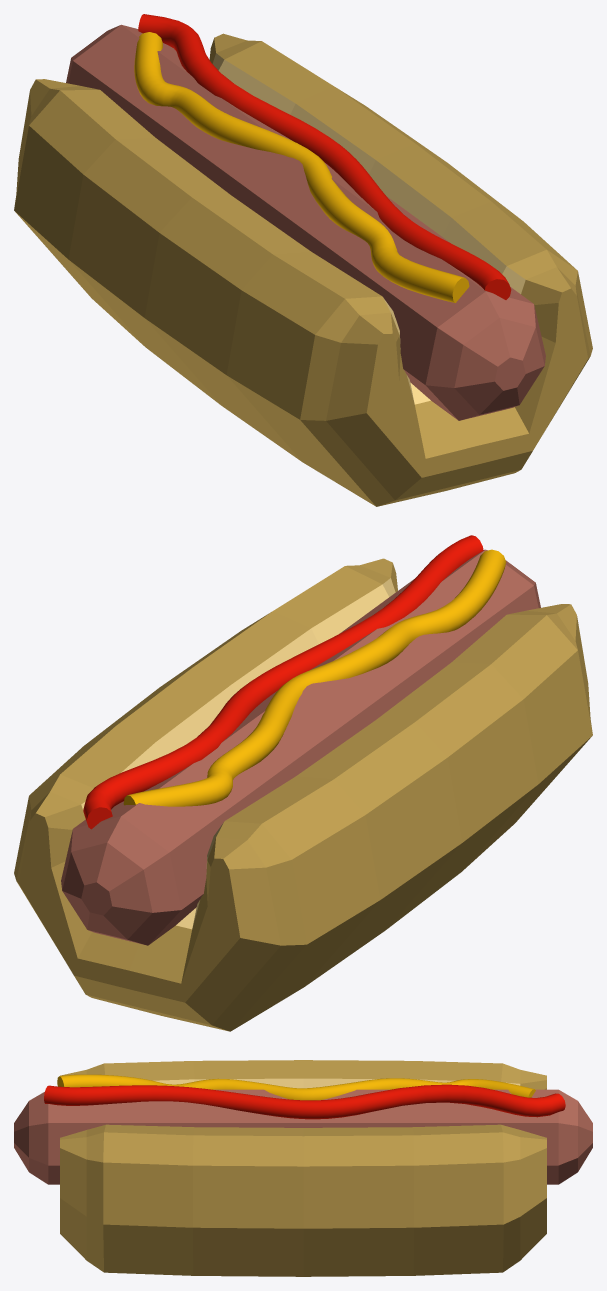
The model's file is Hot Dog.fbx.
The picture shows the model from 3 angles, top to bottom: view 1: azimuth 30°, elevation 25°; view 2: azimuth 150°, elevation 25°; view 3: azimuth 270°, elevation 25°; orthographic projection. The views are drawn at different scales.
Parts seen in each view (by area): view 1: Bun, Dog, BézierCurve.001, BézierCurve; view 2: Bun, Dog, BézierCurve.001, BézierCurve; view 3: Bun, Dog, BézierCurve, BézierCurve.001.
Boxes of the visible parts, <box> form: Bun: <box>14,33,592,506</box>; Dog: <box>66,24,545,420</box>; BézierCurve.001: <box>134,32,469,302</box>; BézierCurve: <box>138,14,511,299</box>; Bun: <box>14,558,592,1031</box>; Dog: <box>61,549,540,945</box>; BézierCurve.001: <box>123,549,506,806</box>; BézierCurve: <box>83,535,483,829</box>; Bun: <box>60,1060,546,1276</box>; Dog: <box>14,1089,592,1184</box>; BézierCurve: <box>44,1084,565,1119</box>; BézierCurve.001: <box>57,1074,535,1100</box>.
Bounding box in the file's own units: 730 × 527 × 1646.
